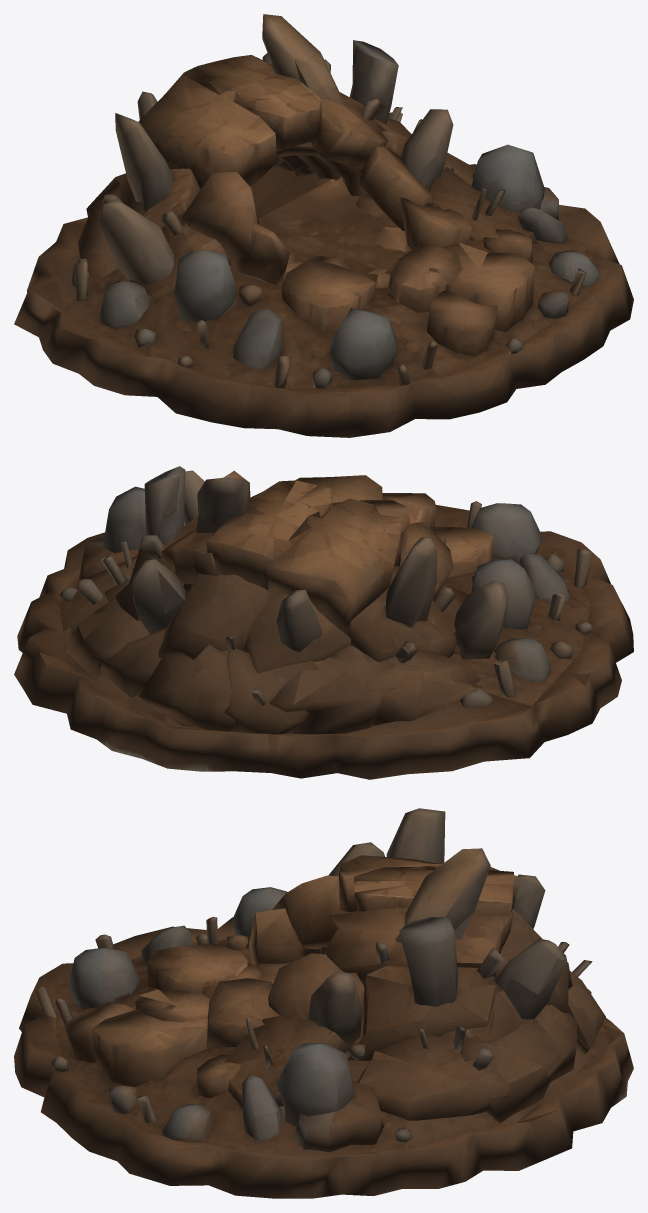
File: Meshy_AI_Rocky_Hollow_Cave_0822202306_texture.fbx
3 renders of one model, top to bottom at view 1: azimuth 30°, elevation 25°; view 2: azimuth 150°, elevation 25°; view 3: azimuth 270°, elevation 25°, orthographic. The views are drawn at different scales.
Visible parts, largest first — view 1: mesh_node; view 2: mesh_node; view 3: mesh_node.
Boxes of the visible parts, bbox=[...] form: mesh_node: bbox=[14, 14, 633, 437]; mesh_node: bbox=[14, 466, 633, 779]; mesh_node: bbox=[14, 808, 633, 1198].
Size of the model in its own units: 100 by 42.87 by 99.8.
1 material, 1 textured.
